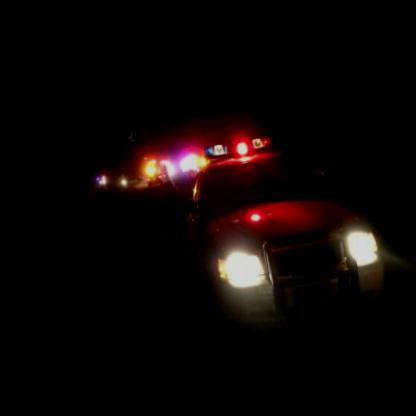car: (174, 118, 388, 346), (143, 168, 162, 184)
